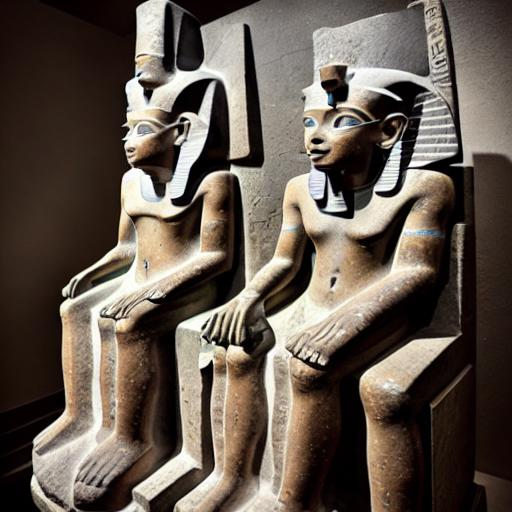Statue of Amun and King: (56, 63, 452, 501)
